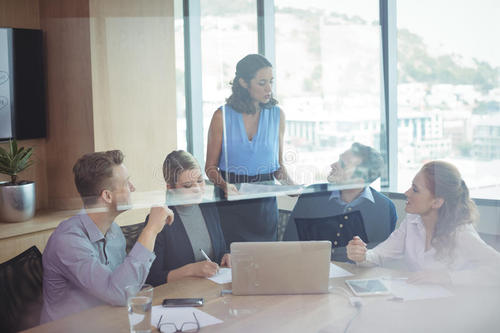face: (405, 164, 444, 212), (326, 147, 366, 185), (103, 166, 136, 212), (236, 67, 274, 104), (174, 170, 204, 204)
specialarea: (187, 179, 201, 190), (406, 183, 418, 193), (262, 80, 271, 91), (124, 179, 132, 188), (333, 160, 342, 166)
